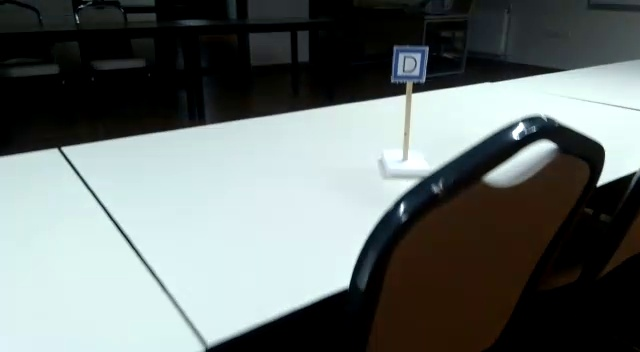durak: (392, 46, 430, 81)
